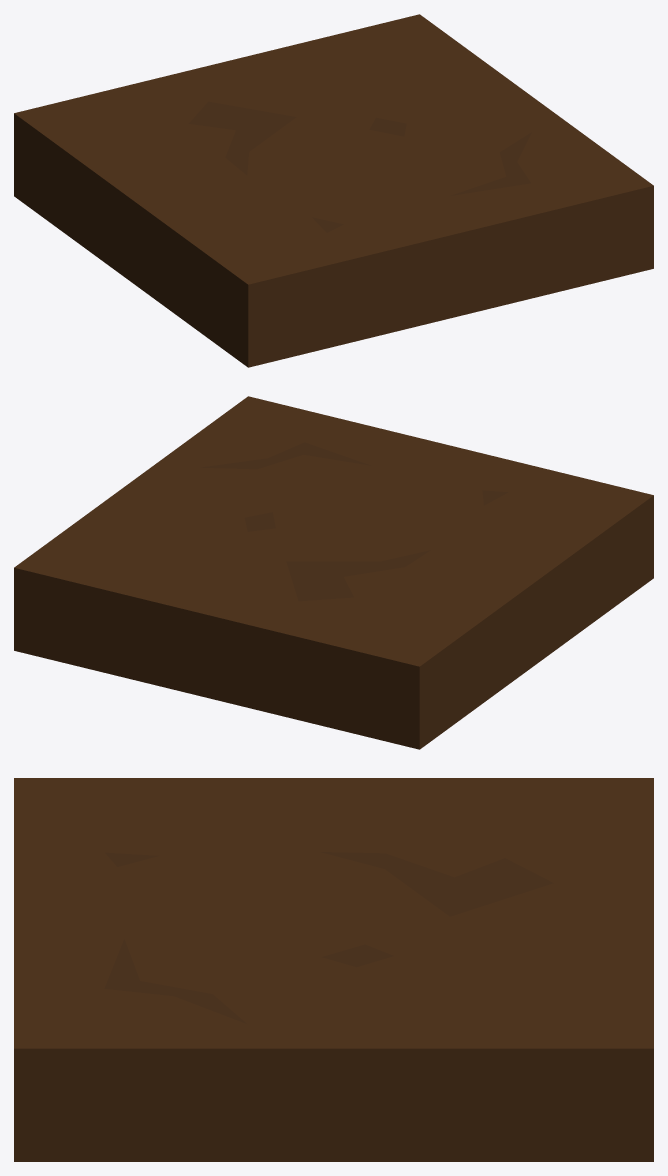
The model's file is Ground_1_4.glb.
3 renders of one model, top to bottom at view 1: azimuth 30°, elevation 25°; view 2: azimuth 150°, elevation 25°; view 3: azimuth 270°, elevation 25°, orthographic. The views are drawn at different scales.
Parts seen in each view (by area): view 1: Ground_1_4; view 2: Ground_1_4; view 3: Ground_1_4.
Boxes of the visible parts, left/top/right/bottom form: Ground_1_4: left=14, top=14, right=653, bottom=367; Ground_1_4: left=14, top=396, right=653, bottom=749; Ground_1_4: left=14, top=778, right=653, bottom=1161.
Size of the model in its own units: 2 by 0.3912 by 2.
1 material, 1 textured.
